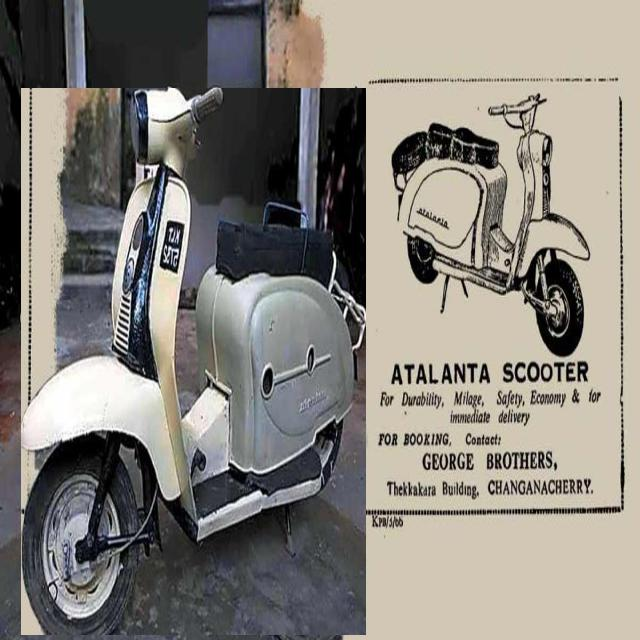motorcycle: (21, 89, 366, 635)
